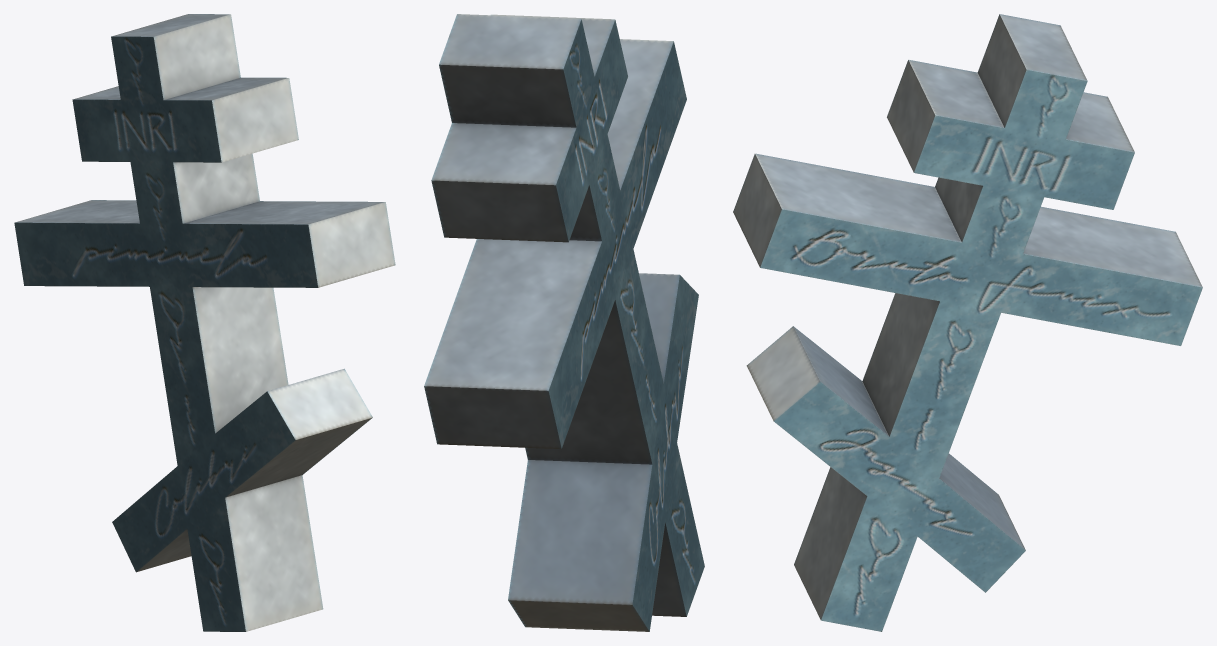
3 renders of one model, left to right at view 1: azimuth 30°, elevation 25°; view 2: azimuth 150°, elevation 25°; view 3: azimuth 270°, elevation 25°, orthographic. The views are drawn at different scales.
Visible parts, largest first — view 1: Cruz_Orto_Cube.011; view 2: Cruz_Orto_Cube.011; view 3: Cruz_Orto_Cube.011.
Boxes of the visible parts, bbox=[...] form: Cruz_Orto_Cube.011: bbox=[14, 14, 395, 631]; Cruz_Orto_Cube.011: bbox=[424, 14, 704, 631]; Cruz_Orto_Cube.011: bbox=[733, 14, 1202, 631].
Size of the model in its own units: 0.9549 by 2.69 by 1.97.
